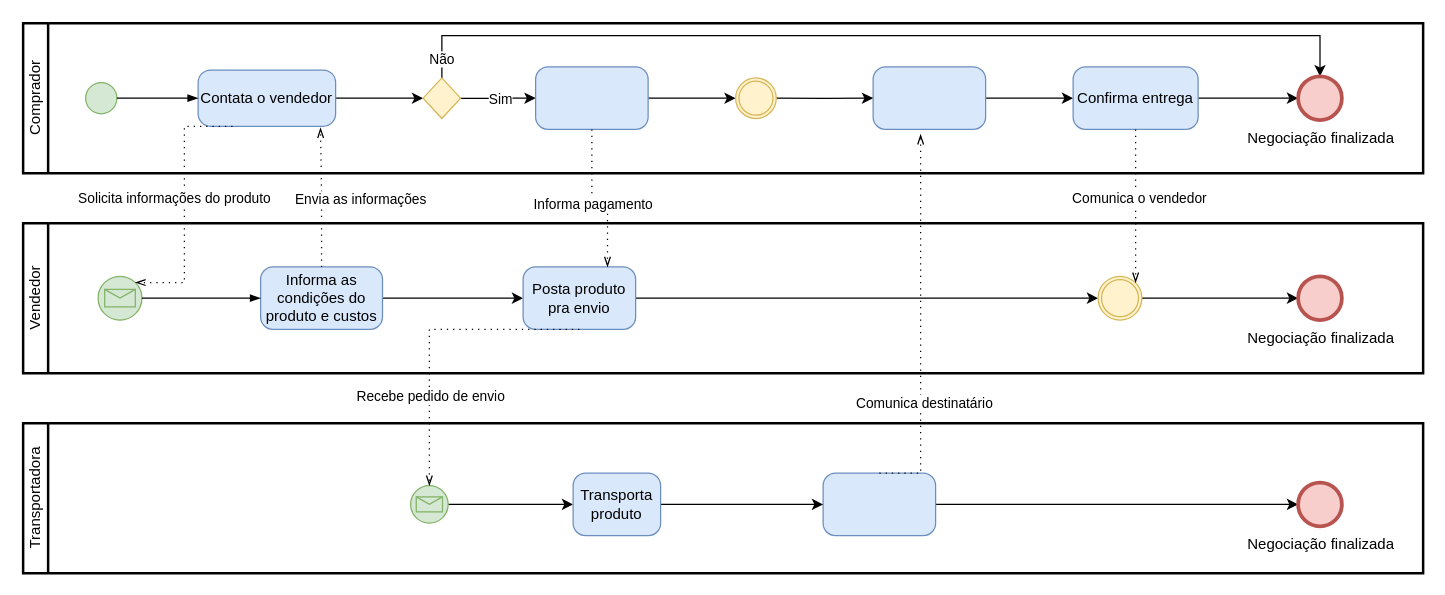
Some shapes in this 1445 by 595 pixel diagram are drawn without their labels. The centre of each missing label's shape, as x and y in pixels:
Aguarda confirmação: (x=1119, y=297)
Aguarda entrega por tempo indeterminado: (x=755, y=97)
Decide comprar ?: (x=441, y=97)
Envia pagamento: (x=591, y=97)
Finaliza entrega: (x=879, y=504)
Recebe produto: (x=929, y=97)
